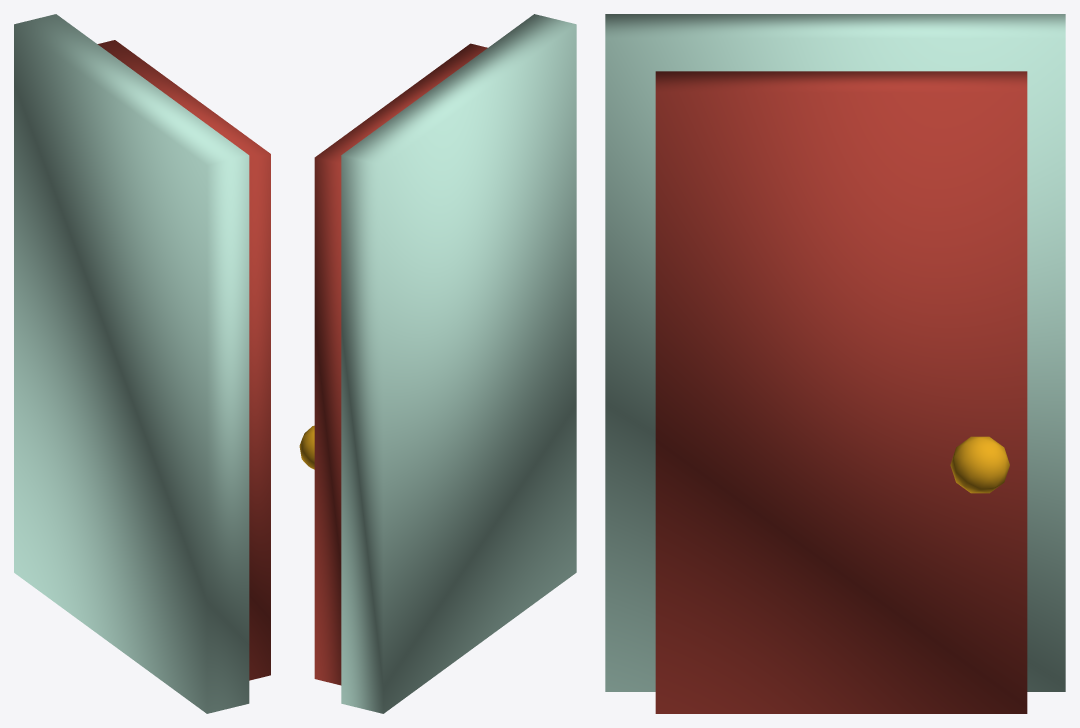
The model's file is DoorQuit.glb.
3 views of the same model, side by side, from view 1: azimuth 30°, elevation 25°; view 2: azimuth 150°, elevation 25°; view 3: azimuth 270°, elevation 25° (orthographic). The views are drawn at different scales.
Visible parts, largest first — view 1: Door; view 2: Door; view 3: Door.
Part boxes in pixels (x1,y1,x2,y2): Door: (14, 14, 270, 713); Door: (299, 14, 576, 713); Door: (605, 14, 1065, 713).
Bounding box in the file's own units: 4.22 × 19.09 × 12.18.
